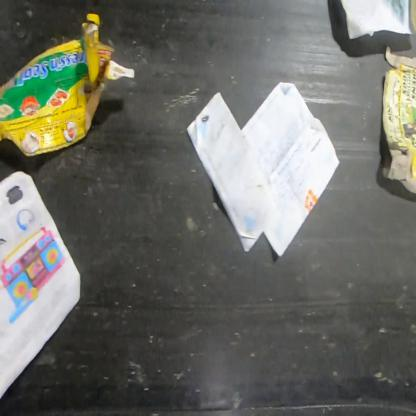cardboard: (0, 12, 136, 158), (380, 44, 416, 195)
